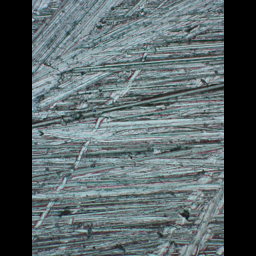d: (32, 0, 219, 112)
